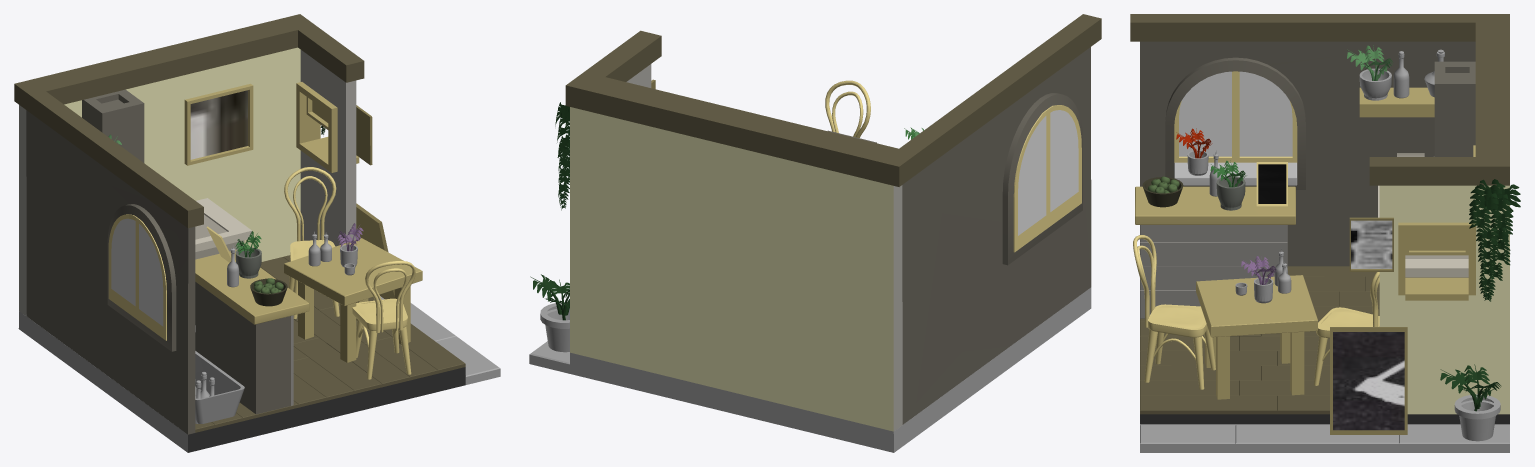
The model's file is Maps pt 2.fbx.
The picture shows the model from 3 angles, left to right: view 1: azimuth 30°, elevation 25°; view 2: azimuth 150°, elevation 25°; view 3: azimuth 270°, elevation 25°; orthographic projection. The views are drawn at different scales.
Parts seen in each view (by area): view 1: Walls, OvenWallTop, CounterBase, pCube1 (×6), KitchenWallTop, WindowDoors, SpiceRack, TableTop, CounterTop, OvenExhaust, WindowFrame, StreetWallTop (+18 smaller); view 2: Walls, OvenWallTop, KitchenWallTop, WindowDoors, WindowFrame, StreetWallTop, PlantPot, pCube16, OuterBack; view 3: Walls, KitchenWallTop, WindowDoors, SignBig, pCube1 (×5), pCube2 (×7), TableTop, OvenWallTop, CounterTop, StreetWallTop, OvenExhaust, pCube17 (+29 smaller).
Boxes of the visible parts, left/top/right/bottom form: Walls: left=18, top=47, right=465, bottom=452; OvenWallTop: left=30, top=18, right=297, bottom=104; CounterBase: left=195, top=282, right=290, bottom=414; pCube1 (×6): left=293, top=323, right=465, bottom=407; KitchenWallTop: left=14, top=80, right=203, bottom=228; WindowDoors: left=108, top=214, right=166, bottom=340; SpiceRack: left=184, top=83, right=253, bottom=165; TableTop: left=284, top=238, right=422, bottom=305; CounterTop: left=195, top=249, right=309, bottom=324; OvenExhaust: left=82, top=89, right=144, bottom=162; WindowFrame: left=107, top=204, right=176, bottom=351; StreetWallTop: left=282, top=14, right=364, bottom=82; Walls: left=570, top=47, right=1091, bottom=452; OvenWallTop: left=586, top=77, right=898, bottom=182; KitchenWallTop: left=880, top=14, right=1101, bottom=186; WindowDoors: left=1013, top=105, right=1081, bottom=252; WindowFrame: left=1002, top=93, right=1082, bottom=265; StreetWallTop: left=565, top=30, right=661, bottom=110; PlantPot: left=540, top=302, right=569, bottom=352; pCube16: left=529, top=341, right=569, bottom=373; OuterBack: left=825, top=80, right=870, bottom=138; Walls: left=1140, top=41, right=1509, bottom=425; KitchenWallTop: left=1130, top=14, right=1509, bottom=41; WindowDoors: left=1174, top=71, right=1297, bottom=162; SignBig: left=1330, top=327, right=1407, bottom=434; pCube1 (×5): left=1140, top=336, right=1277, bottom=414; pCube2 (×7): left=1239, top=266, right=1376, bottom=414; TableTop: left=1196, top=275, right=1317, bottom=337; OvenWallTop: left=1475, top=22, right=1509, bottom=156; CounterTop: left=1135, top=186, right=1295, bottom=224; StreetWallTop: left=1369, top=157, right=1509, bottom=185; OvenExhaust: left=1434, top=61, right=1475, bottom=156; pCube17: left=1235, top=425, right=1398, bottom=452.
Bounding box in the file's own units: 9.41 × 7.02 × 8.85.
